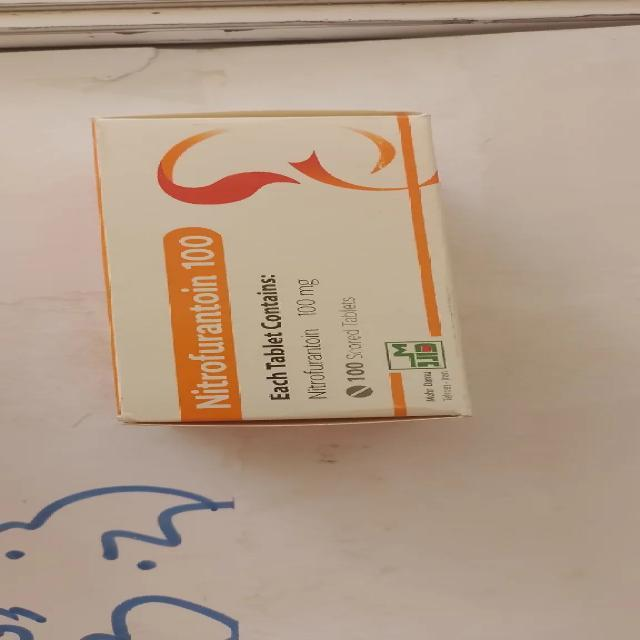drug-name: (168, 224, 235, 414)
